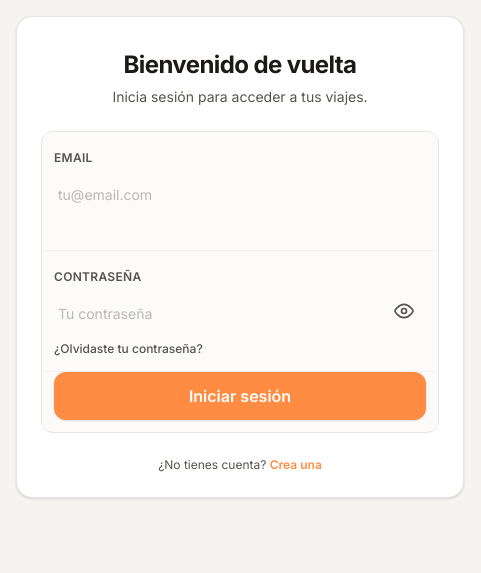
Test: /login › non-ApiError (network) → network banner
Type "x@example.test" into the field with placeholder "tu@email.com".
click(240, 194); type("x@example.test")  # box [54,172,426,216]
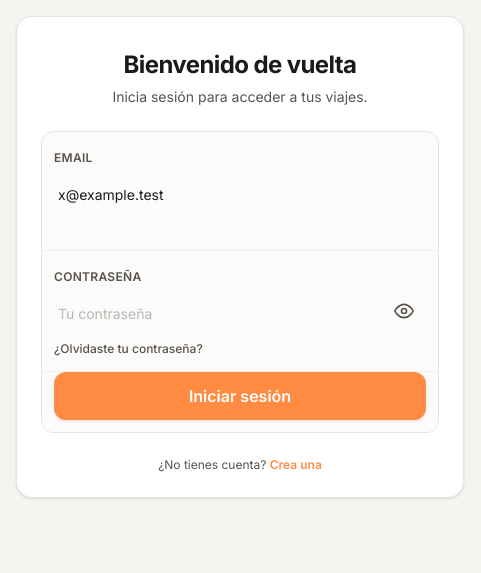
Type "GoodPass1!" into the field with placeholder "Tu contraseña".
click(218, 313); type("GoodPass1!")  # box [54,291,382,335]
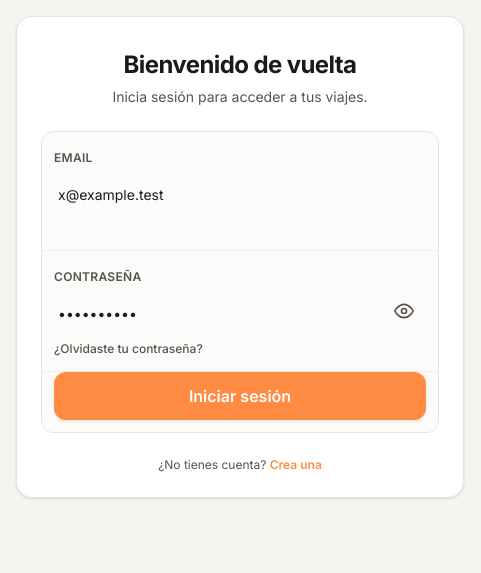
Click the button "Iniciar sesión".
click(240, 396)  # box [54,372,426,420]
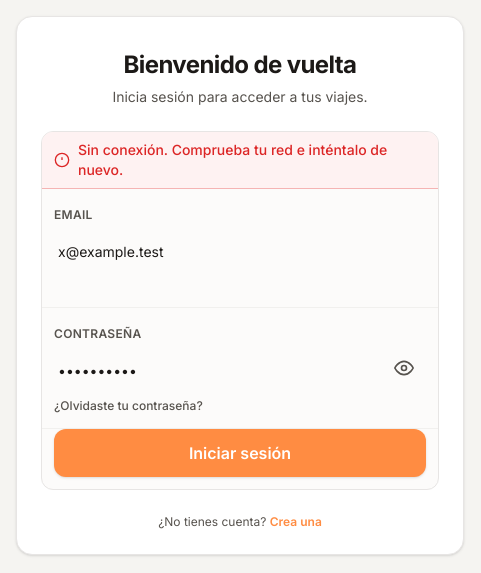
Result: the text "Sin conexión. Comprueba tu red e inténtalo de nuevo." is shown at [78,140,426,180]
